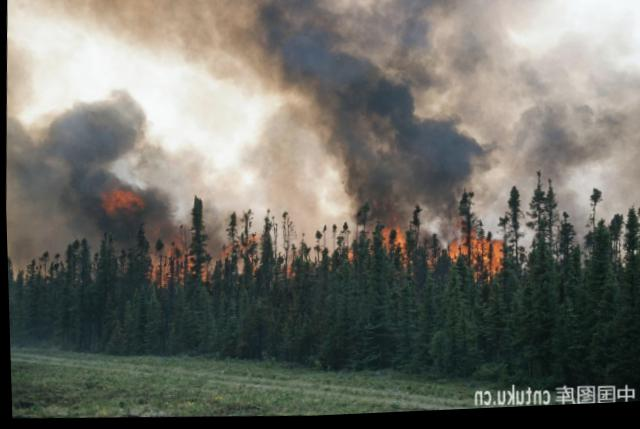fire: (469, 241, 492, 265), (490, 242, 503, 276), (444, 246, 468, 262), (380, 229, 391, 248), (395, 229, 405, 247), (347, 253, 354, 263)
